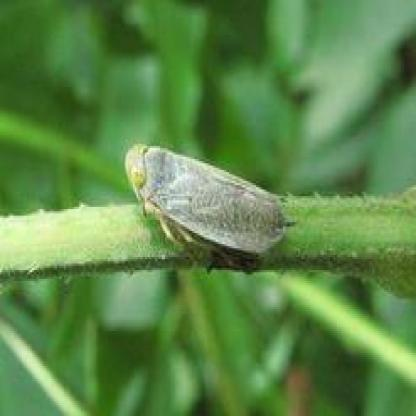Green-Leafhopper: (123, 141, 294, 273)
